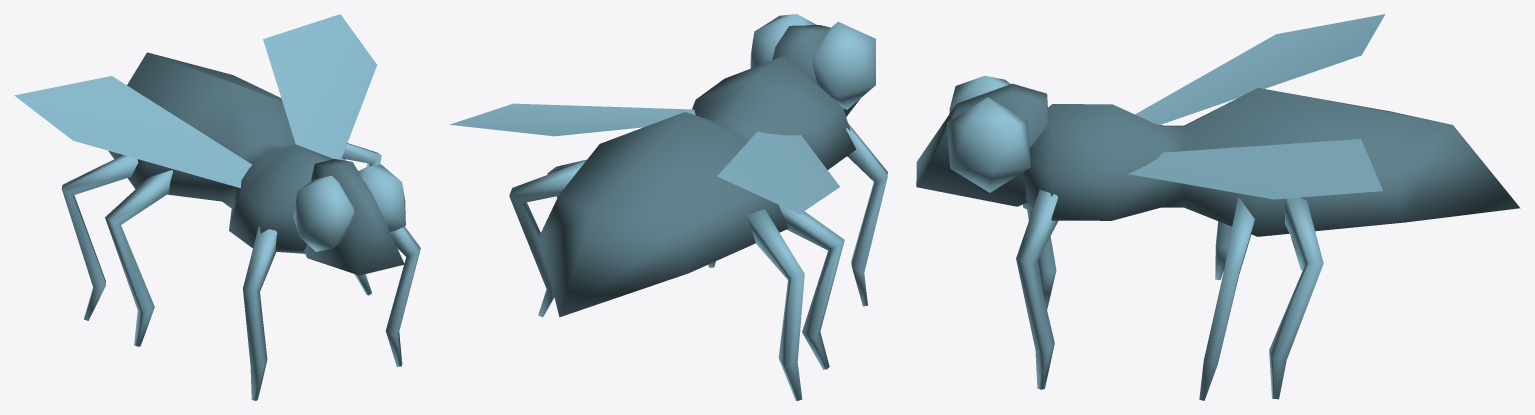
Rendered from fly_lowpoly.gltf.
3 renders of one model, left to right at view 1: azimuth 30°, elevation 25°; view 2: azimuth 150°, elevation 25°; view 3: azimuth 270°, elevation 25°, orthographic. The views are drawn at different scales.
Visible parts, largest first — view 1: Plane.002, Plane.017, Plane.016, Plane.015, Plane.010, Icosphere.002, Plane.011, Plane.009, Plane.014, Icosphere.003, Plane.013; view 2: Plane.002, Plane.017, Plane.016, Icosphere.002, Plane.009, Plane.010, Plane.012, Plane.011, Plane.015, Icosphere.003; view 3: Plane.002, Plane.016, Plane.017, Icosphere.003, Plane.015, Plane.012, Plane.014, Plane.013, Icosphere.002, Plane.011, Plane.010.
Boxes of the visible parts, <box> form: Plane.002: <box>108,52,333,253</box>; Plane.017: <box>14,76,252,187</box>; Plane.016: <box>263,14,376,159</box>; Plane.015: <box>304,159,404,275</box>; Plane.010: <box>105,170,172,346</box>; Icosphere.002: <box>293,175,354,251</box>; Plane.011: <box>243,226,277,400</box>; Plane.009: <box>61,155,138,320</box>; Plane.014: <box>385,226,420,366</box>; Icosphere.003: <box>358,164,405,232</box>; Plane.013: <box>341,143,381,295</box>; Plane.002: <box>539,56,856,317</box>; Plane.017: <box>717,131,839,214</box>; Plane.016: <box>450,103,695,136</box>; Icosphere.002: <box>813,21,875,109</box>; Plane.009: <box>747,209,804,400</box>; Plane.010: <box>779,205,844,369</box>; Plane.012: <box>509,160,586,316</box>; Plane.011: <box>846,123,887,306</box>; Plane.015: <box>772,25,859,116</box>; Icosphere.003: <box>750,14,816,68</box>; Plane.002: <box>1023,88,1520,236</box>; Plane.016: <box>1128,139,1382,199</box>; Plane.017: <box>1135,14,1385,125</box>; Icosphere.003: <box>947,97,1030,192</box>; Plane.015: <box>916,83,1047,206</box>; Plane.012: <box>1269,197,1323,399</box>; Plane.014: <box>1016,190,1058,389</box>; Plane.013: <box>1199,198,1254,400</box>; Icosphere.002: <box>949,75,1010,113</box>; Plane.011: <box>1027,209,1056,309</box>; Plane.010: <box>1215,221,1232,279</box>.
Size of the model in its own units: 3.77 by 2.56 by 5.34.
